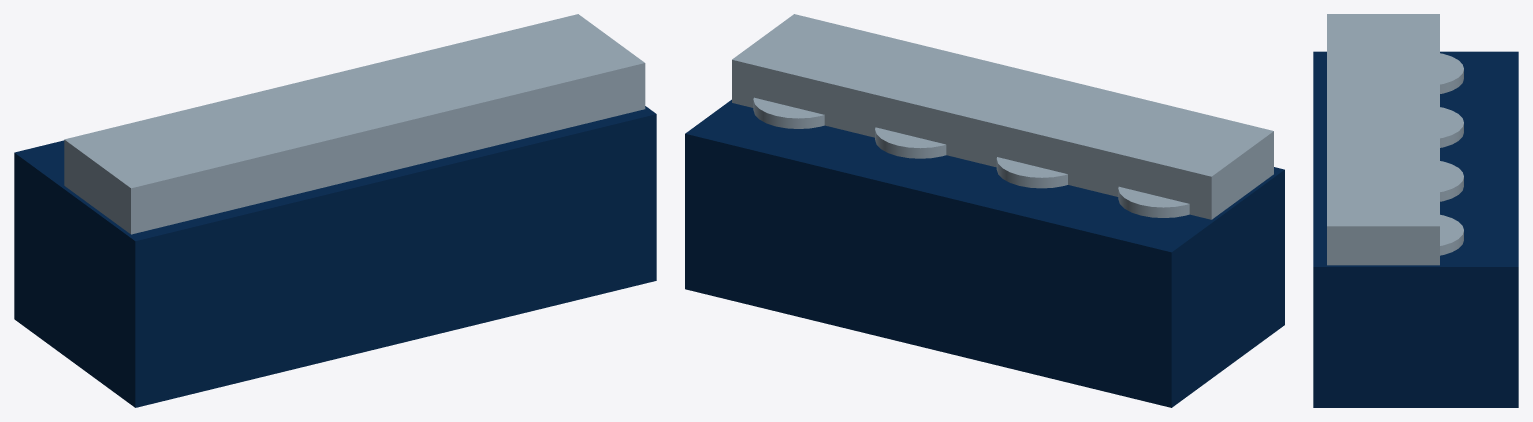
File: motor.glb
The picture shows the model from 3 angles, left to right: view 1: azimuth 30°, elevation 25°; view 2: azimuth 150°, elevation 25°; view 3: azimuth 270°, elevation 25°; orthographic projection. The views are drawn at different scales.
Visible parts, largest first — view 1: Bloco, Cabecote; view 2: Bloco, Cabecote, Cilindro (×4); view 3: Bloco, Cabecote, Cilindro (×4).
Boxes of the visible parts, x1,y1,x2,y2 form: Bloco: (14,106,656,407); Cabecote: (64,14,645,234); Bloco: (685,99,1284,407); Cabecote: (732,14,1273,219); Cilindro (×4): (753,97,1189,217); Bloco: (1313,51,1518,407); Cabecote: (1327,14,1439,265); Cilindro (×4): (1440,53,1463,255).
Bounding box in the file's own units: 3.6 × 1.41 × 1.45.
